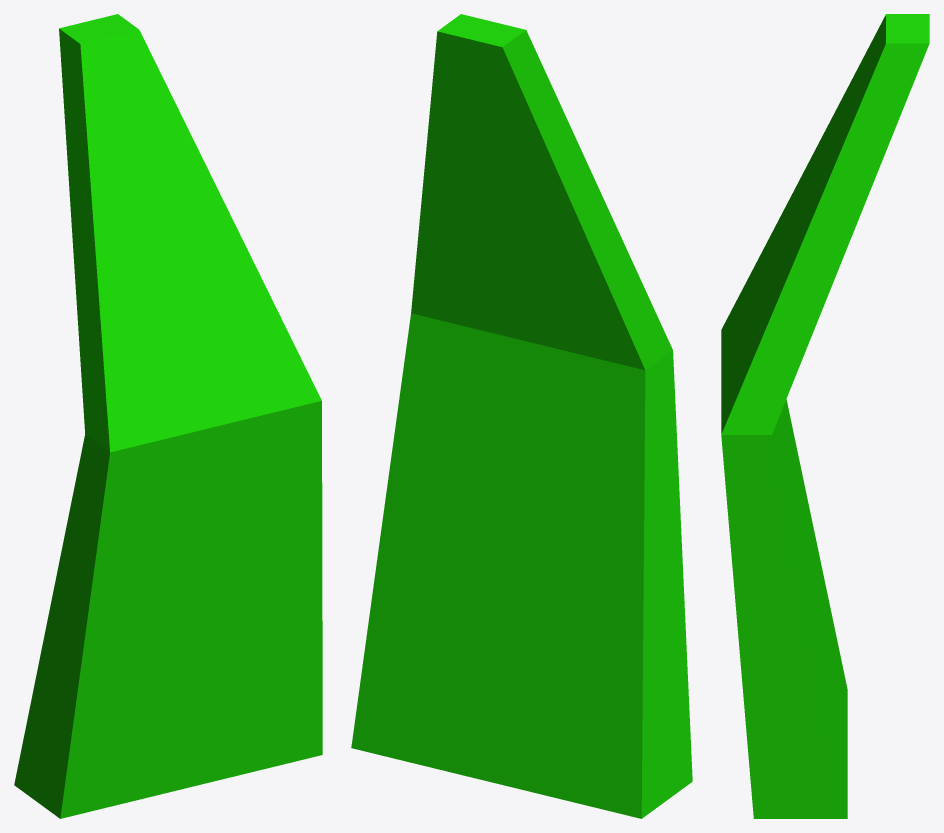
File: GrassBlades.fbx
3 renders of one model, left to right at view 1: azimuth 30°, elevation 25°; view 2: azimuth 150°, elevation 25°; view 3: azimuth 270°, elevation 25°, orthographic. The views are drawn at different scales.
Visible parts, largest first — view 1: GrassBlade; view 2: GrassBlade; view 3: GrassBlade.
Boxes of the visible parts, x1,y1,x2,y2 form: GrassBlade: (14, 14, 322, 818); GrassBlade: (351, 14, 692, 818); GrassBlade: (721, 14, 929, 818).
Bounding box in the file's own units: 26.02 × 66.89 × 17.62.
